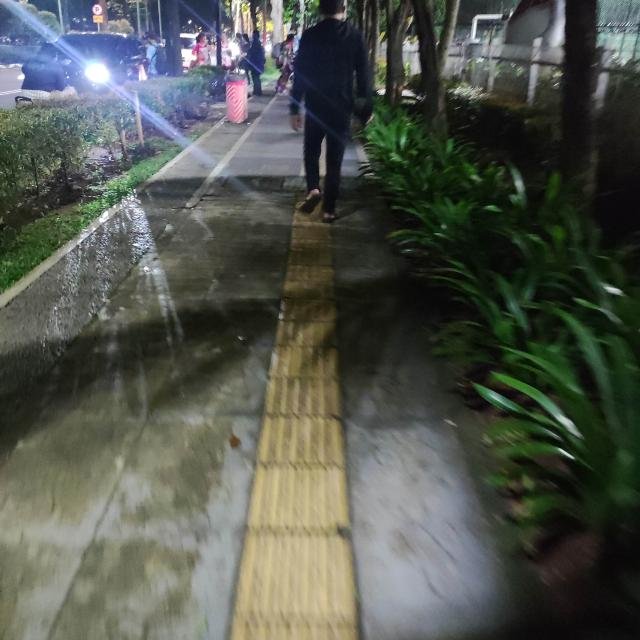lurus: (258, 190, 347, 638)
